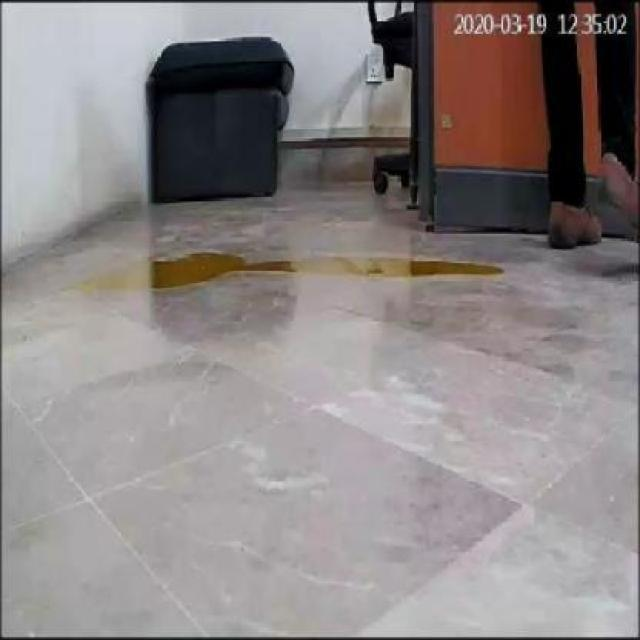spillage: (151, 252, 295, 288), (341, 261, 504, 276), (94, 266, 144, 292)
